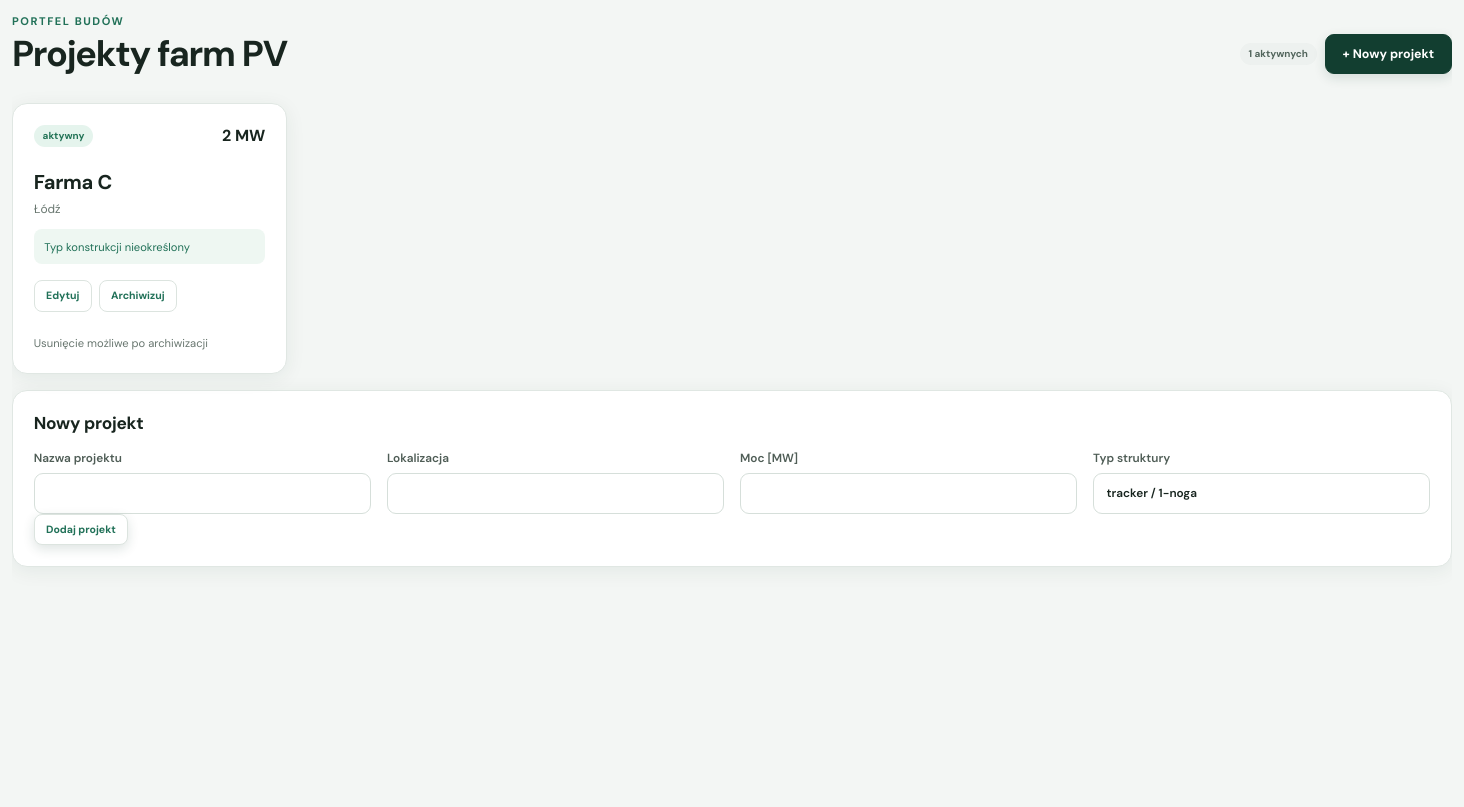
Test case: Użytkownicy i projekty › edycja projektu: Esc anuluje i czyści formularz
Click the button "Edytuj" at (63, 296), box [34, 280, 92, 312]
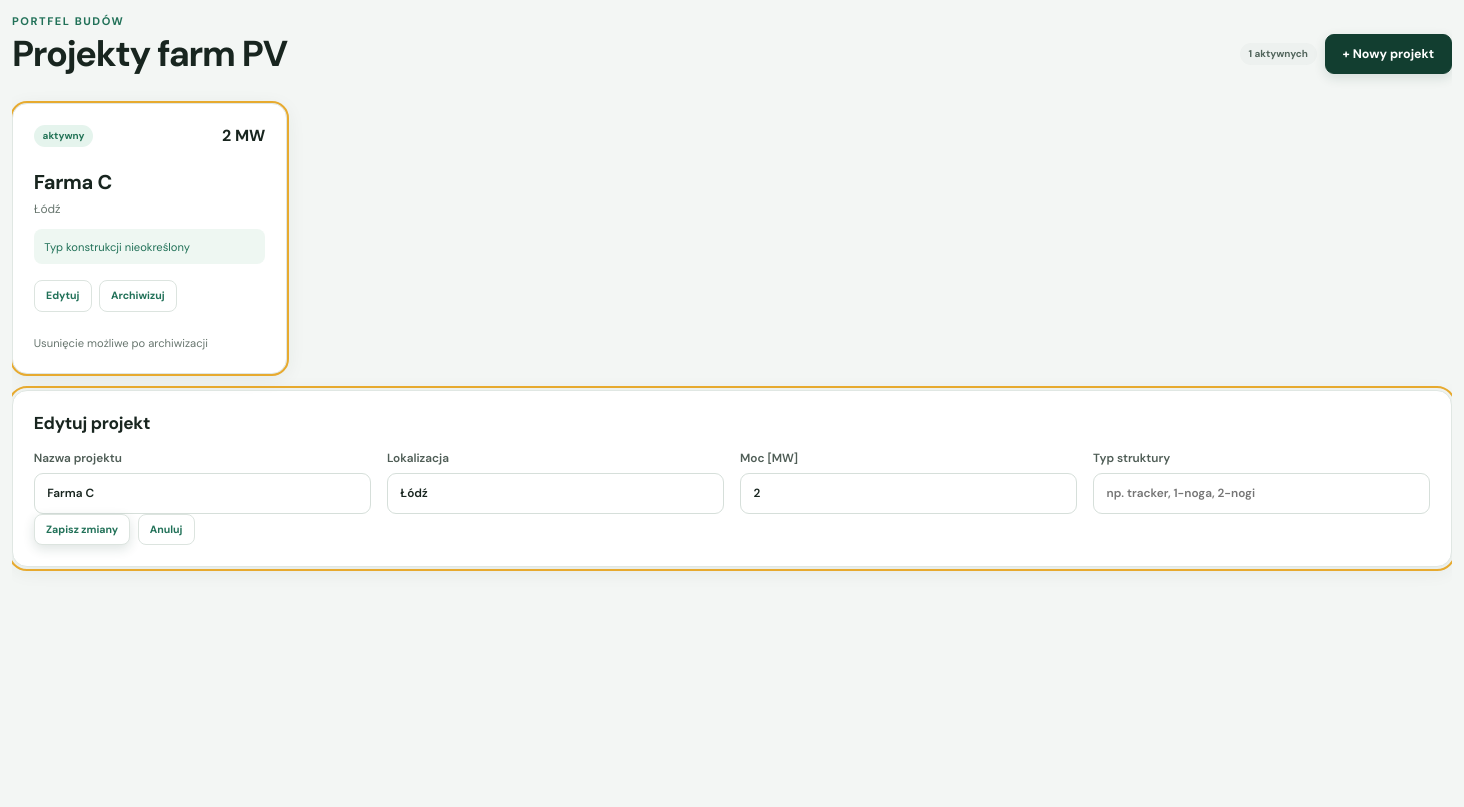
Check: the heading "Edytuj projekt" is shown, box [34, 412, 150, 434]
Check: the field showing "Farma C" is shown, box [34, 473, 371, 514]
Press Escape
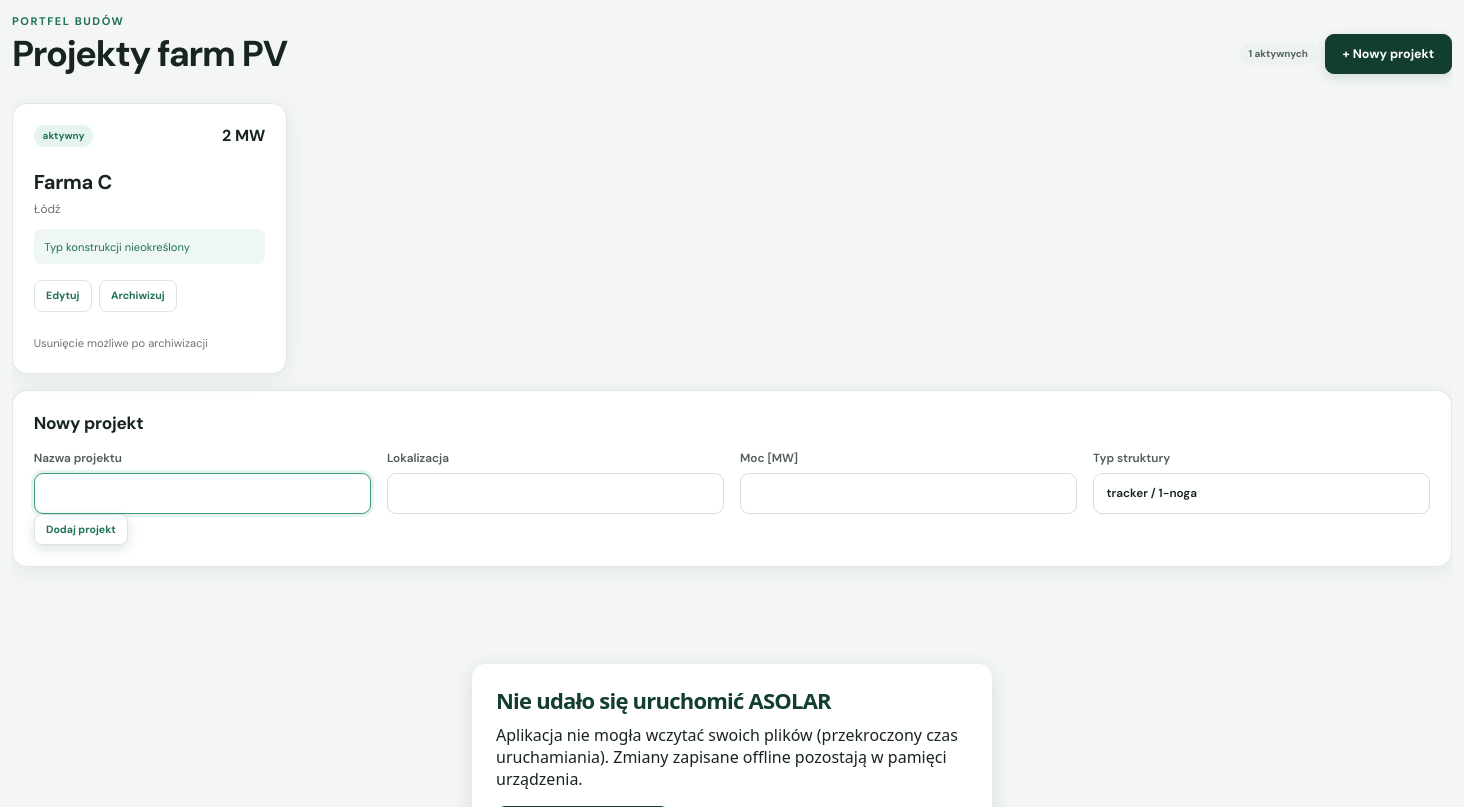
Check: the heading "Nowy projekt" is shown, box [34, 412, 144, 434]
